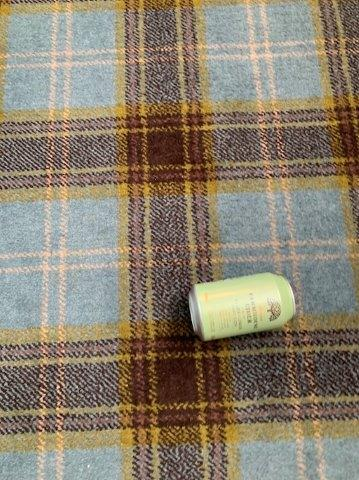kaleng: (190, 273, 294, 341)
